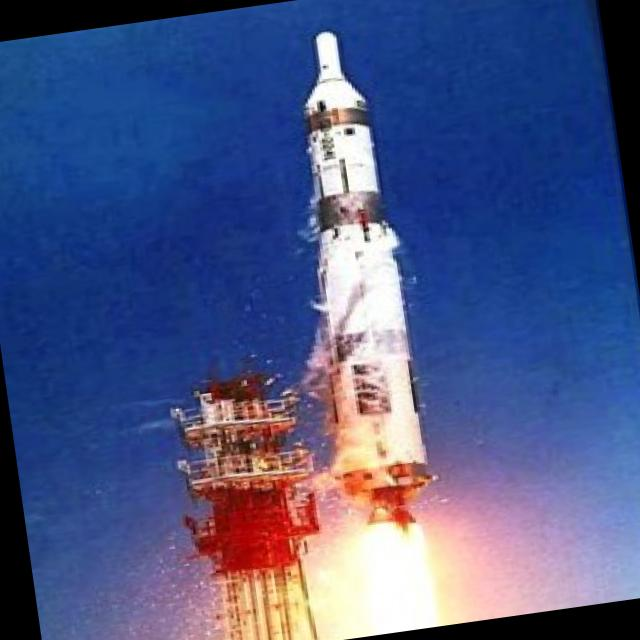rocket: (268, 11, 452, 535)
